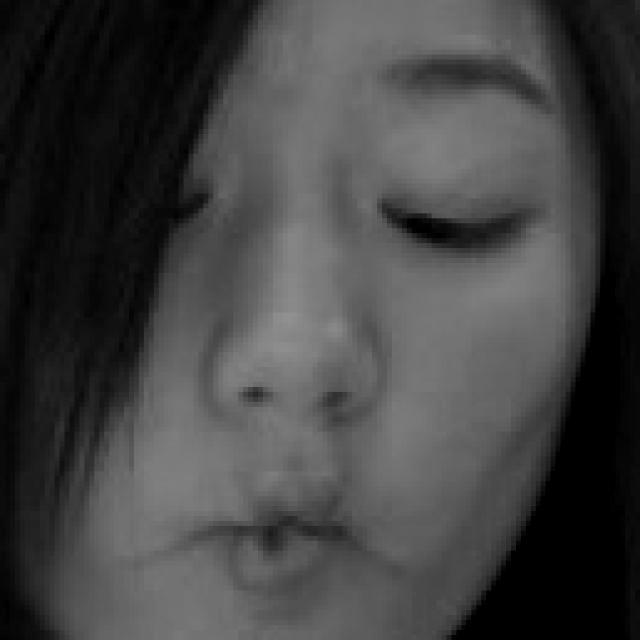real: (32, 10, 558, 596), (62, 118, 552, 266)
